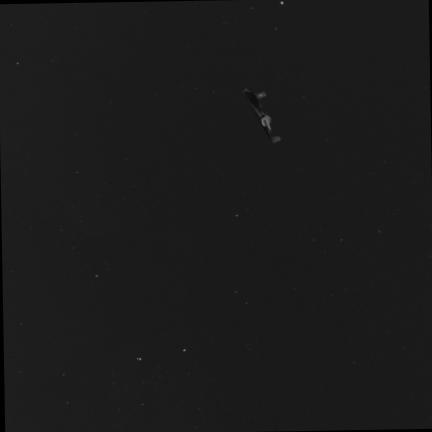Shahed: (241, 88, 278, 142)
